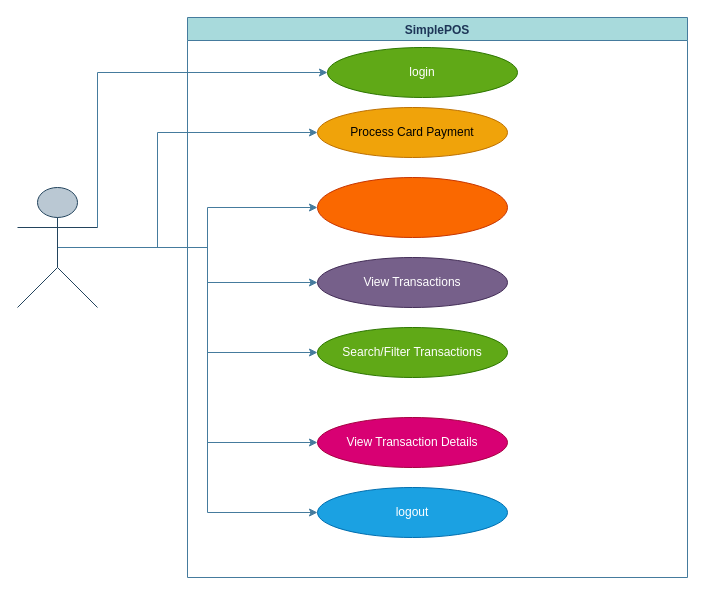
Some shapes in this 705 by 595 pixel diagram are drawn without their labels. Each missing label, with the box of its shape:
Merchant: (16, 186, 98, 308)
Process QR Payment: (316, 176, 508, 238)
